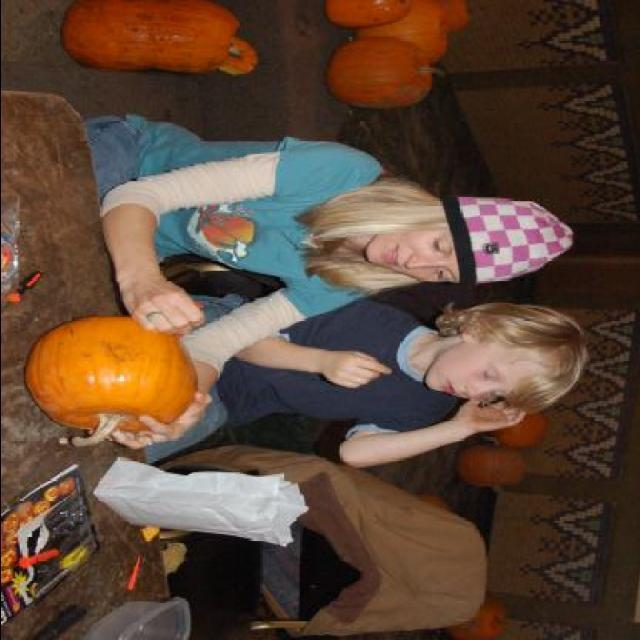Pumpkin: (24, 320, 193, 446), (58, 0, 246, 82), (332, 41, 443, 105), (356, 0, 452, 62), (456, 436, 532, 492), (438, 598, 504, 638), (483, 411, 548, 451), (419, 0, 474, 38), (323, 1, 412, 24), (217, 36, 261, 78)
